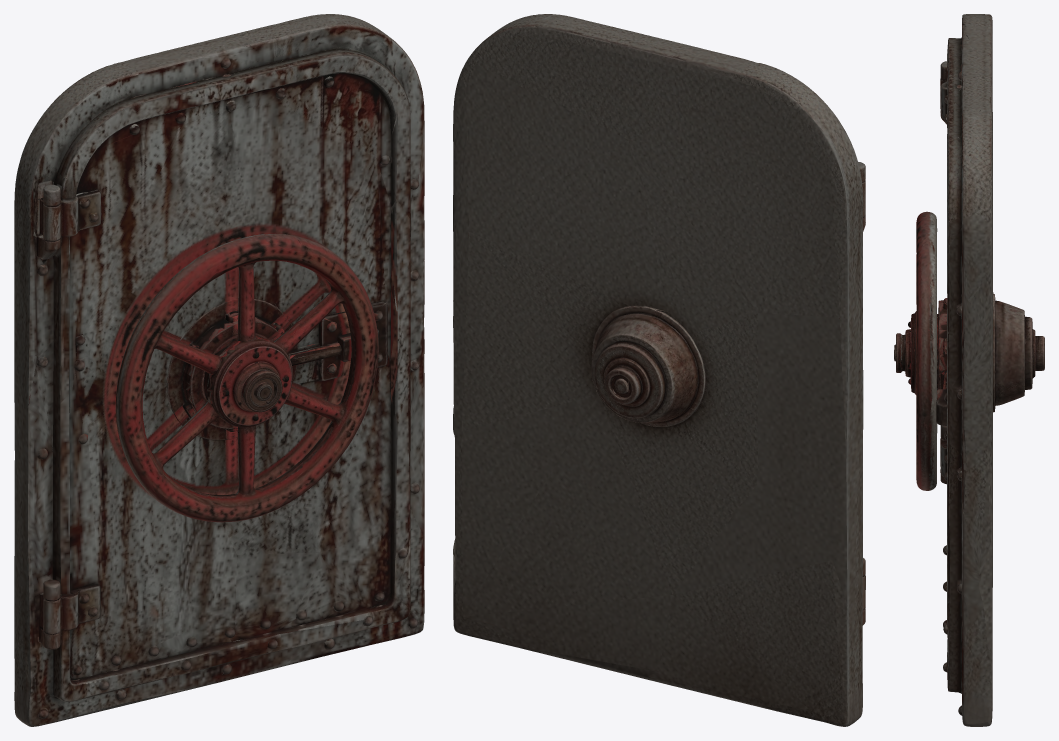
Rendered from portal_red_valve.glb.
3 views of the same model, side by side, from view 1: azimuth 30°, elevation 25°; view 2: azimuth 150°, elevation 25°; view 3: azimuth 270°, elevation 25° (orthographic). The views are drawn at different scales.
Visible parts, largest first — view 1: output_unwrapped; view 2: output_unwrapped; view 3: output_unwrapped.
Boxes of the visible parts, x1,y1,x2,y2 form: output_unwrapped: (14,14,424,726); output_unwrapped: (453,14,865,726); output_unwrapped: (894,14,1044,726).
Size of the model in its own units: 1.25 by 1.9 by 0.452.
Materials: 1 (1 with a texture image).
